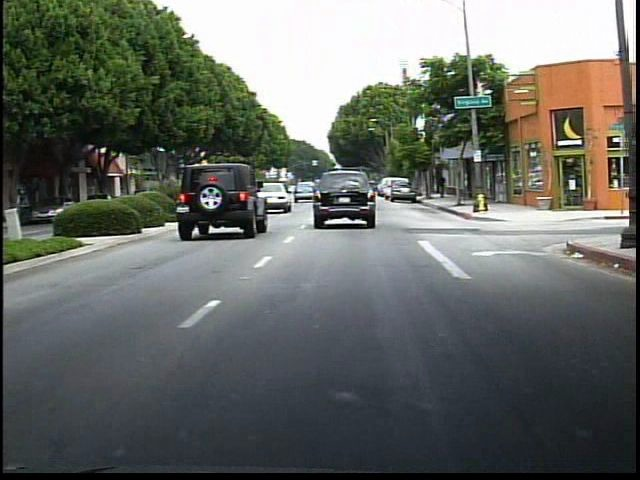person: (432, 166, 453, 203)
